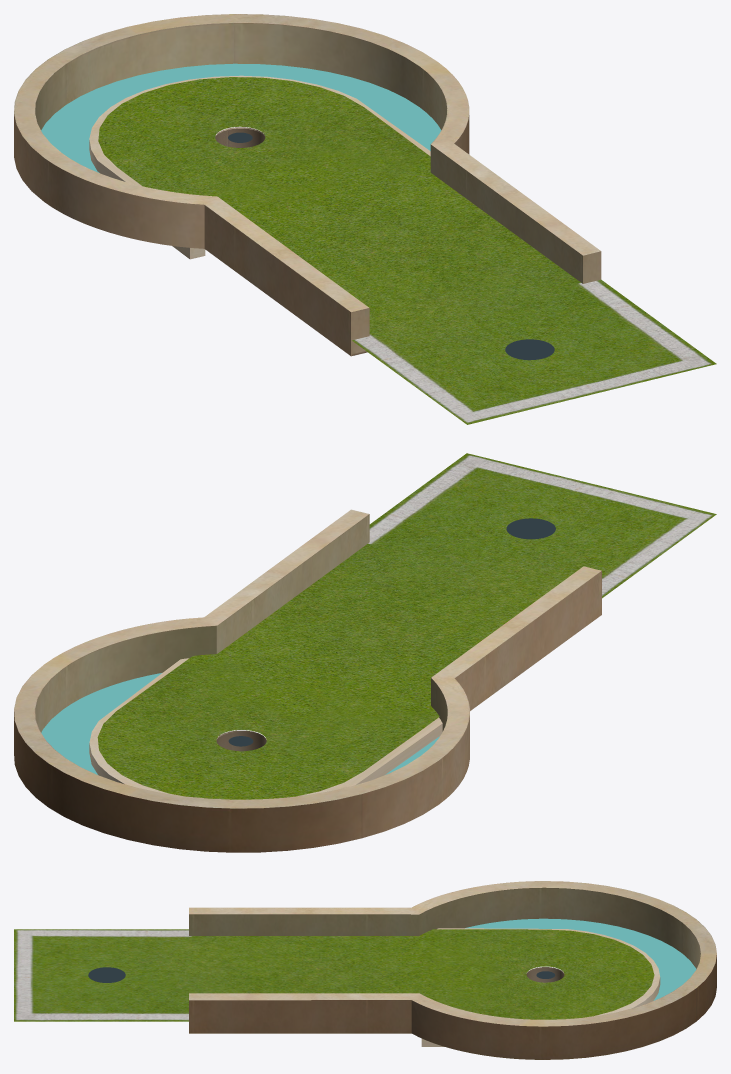
The model's file is pista-agua.glb.
The picture shows the model from 3 angles, top to bottom: view 1: azimuth 30°, elevation 25°; view 2: azimuth 150°, elevation 25°; view 3: azimuth 270°, elevation 25°; orthographic projection. The views are drawn at different scales.
Parts seen in each view (by area): view 1: circuito-suelo, paredes, agua, resalto, punto-pelota, foso; view 2: circuito-suelo, paredes, agua, resalto, punto-pelota, foso; view 3: circuito-suelo, paredes, agua, resalto, punto-pelota, foso.
Boxes of the visible parts, x1,y1,x2,y2 form: circuito-suelo: (98,77,716,424); paredes: (14,14,601,356); agua: (41,63,441,173); resalto: (89,75,430,259); punto-pelota: (505,339,554,360); foso: (215,127,265,147); circuito-suelo: (97,453,716,799); paredes: (14,509,601,852); agua: (41,673,439,774); resalto: (89,658,442,796); punto-pelota: (506,518,555,539); foso: (216,730,266,751); circuito-suelo: (14,929,654,1021); paredes: (189,881,716,1059); agua: (465,918,696,1000); resalto: (421,928,660,1046); punto-pelota: (88,967,125,982); foso: (526,967,564,982).
Size of the model in its own units: 2.2 by 0.4023 by 4.5.
6 materials, 4 textured.
